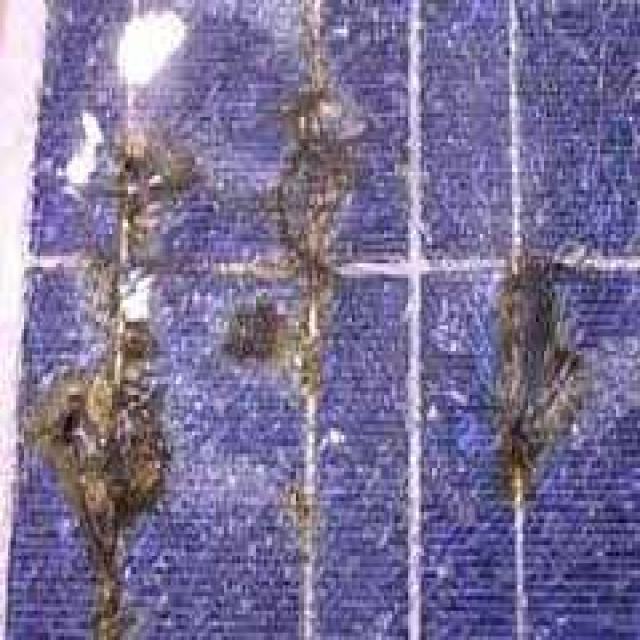electrical damage: (40, 128, 227, 634), (240, 15, 384, 534), (460, 238, 640, 562)
